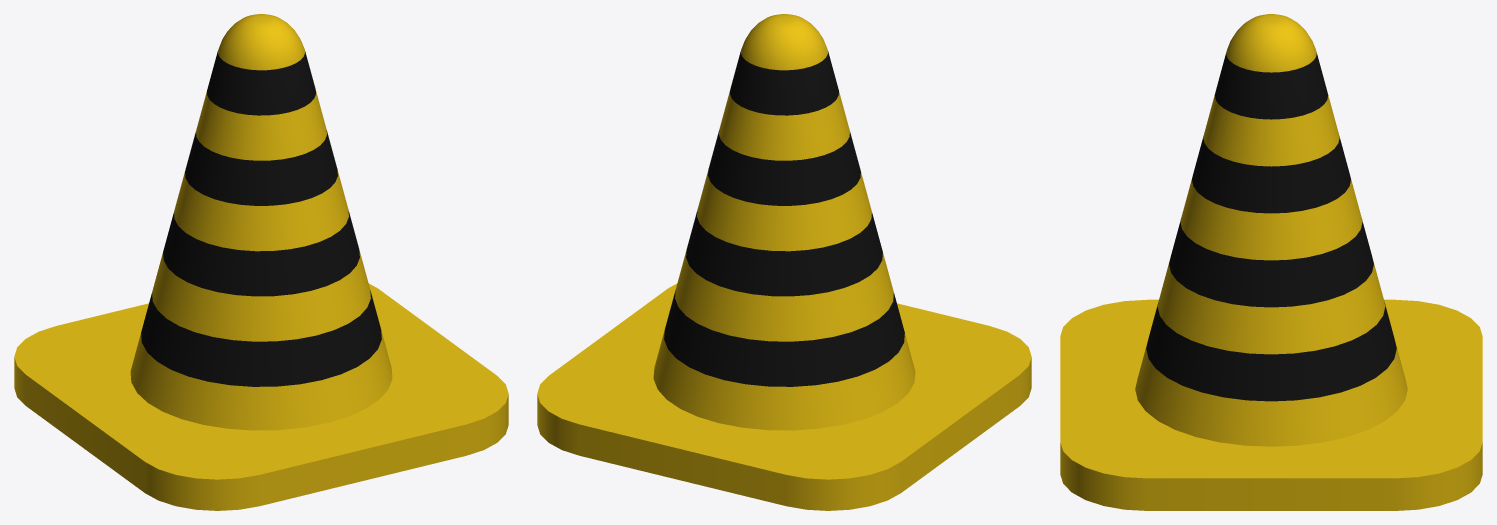
The model's file is TrafficCone02.fbx.
The picture shows the model from 3 angles, left to right: view 1: azimuth 30°, elevation 25°; view 2: azimuth 150°, elevation 25°; view 3: azimuth 270°, elevation 25°; orthographic projection. The views are drawn at different scales.
Parts seen in each view (by area): view 1: Top.001, TrafficCone02; view 2: Top.001, TrafficCone02; view 3: Top.001, TrafficCone02.
Boxes of the visible parts, x1,y1,x2,y2 form: Top.001: (130, 14, 392, 430); TrafficCone02: (14, 283, 508, 510); Top.001: (653, 14, 915, 430); TrafficCone02: (537, 283, 1031, 510); Top.001: (1135, 14, 1407, 446); TrafficCone02: (1060, 299, 1482, 510).
Size of the model in its own units: 50 by 52.51 by 50.
